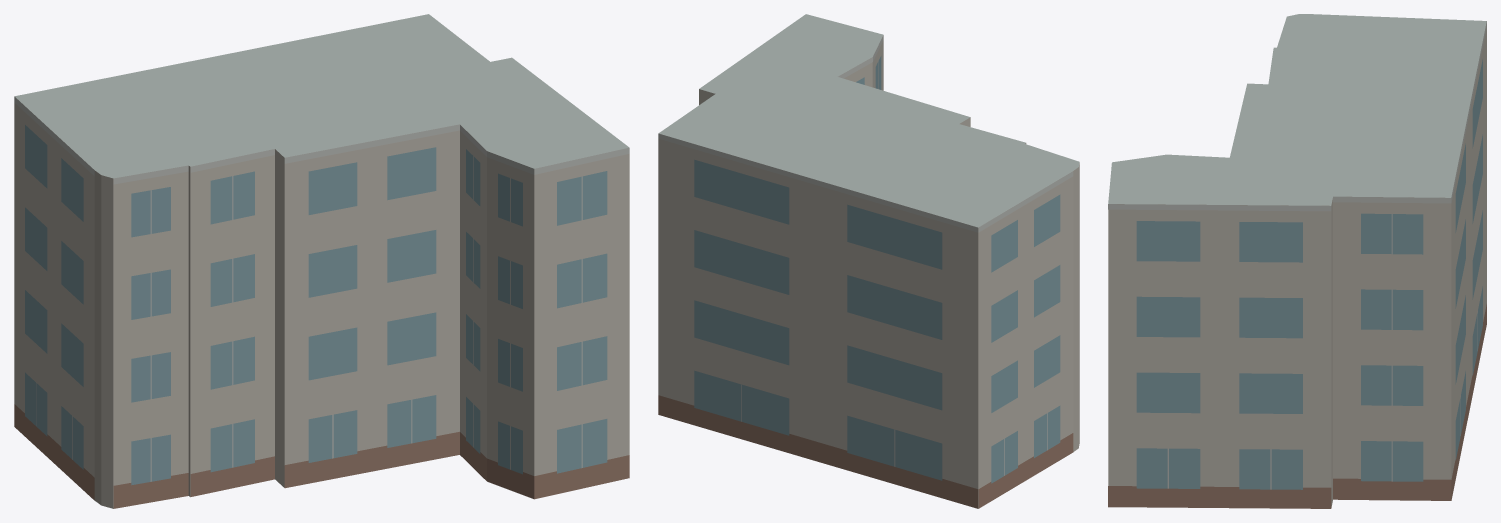
The model's file is survey-upis-32551954.glb.
The picture shows the model from 3 angles, left to right: view 1: azimuth 30°, elevation 25°; view 2: azimuth 150°, elevation 25°; view 3: azimuth 270°, elevation 25°; orthographic projection. The views are drawn at different scales.
Parts seen in each view (by area): view 1: survey-upis-32551954.tmp; view 2: survey-upis-32551954.tmp; view 3: survey-upis-32551954.tmp.
Boxes of the visible parts, left/top/right/bottom form: survey-upis-32551954.tmp: left=14, top=14, right=629, bottom=508; survey-upis-32551954.tmp: left=658, top=14, right=1079, bottom=508; survey-upis-32551954.tmp: left=1108, top=14, right=1486, bottom=508.
Size of the model in its own units: 17.92 by 13.2 by 14.96.
